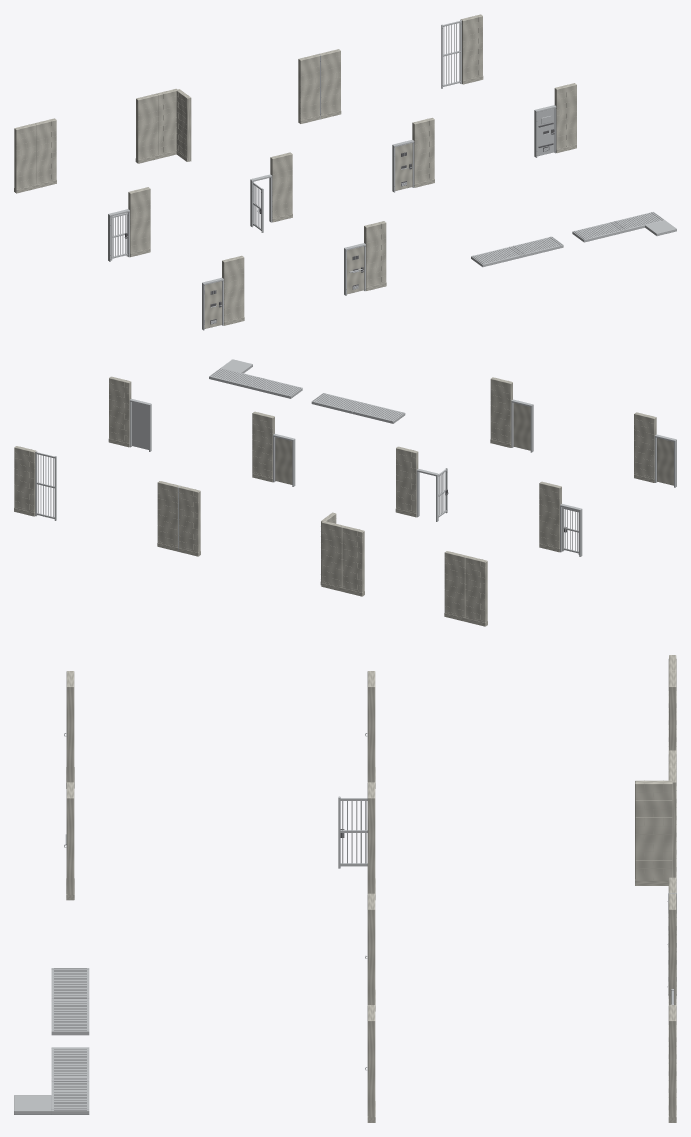
File: prison-complex-builder-prison-connector-cases-1-4a07fe5f__25727.glb
3 renders of one model, top to bottom at view 1: azimuth 30°, elevation 25°; view 2: azimuth 150°, elevation 25°; view 3: azimuth 270°, elevation 25°, orthographic. The views are drawn at different scales.
Visible parts, largest first — view 1: 002-concrete-wall-corner/0, 000-concrete-wall-straight/0, 003-concrete-wall-straight/0, 004-concrete-wall-end/0, 009-concrete-wall-straight/0, 015-concrete-wall-straight/0, 013-concrete-wall-straight/0, 019-concrete-wall-straight/0, 011-concrete-wall-straight/0, 017-concrete-wall-straight/0, 007-concrete-wall-straight/0, 001-concrete-wall-straight/0 (+10 smaller); view 2: 002-concrete-wall-corner/0, 000-concrete-wall-straight/0, 003-concrete-wall-straight/0, 019-concrete-wall-straight/0, 004-concrete-wall-end/0, 007-concrete-wall-straight/0, 001-concrete-wall-straight/0, 011-concrete-wall-straight/0, 015-concrete-wall-straight/0, 013-concrete-wall-straight/0, 017-concrete-wall-straight/0, 009-concrete-wall-straight/0 (+11 smaller); view 3: 002-concrete-wall-corner/0, 022-walkway-corner/0, 021-mezzanine-walkway/0, 023-mezzanine-walkway/0, 020-mezzanine-walkway/0, 019-concrete-wall-straight/0, 009-concrete-wall-straight/0, 017-concrete-wall-straight/0, 015-concrete-wall-straight/0, 011-concrete-wall-straight/0, 013-concrete-wall-straight/0, 007-concrete-wall-straight/0 (+2 smaller).
Boxes of the visible parts, x1,y1,x2,y2 form: 002-concrete-wall-corner/0: [156, 88, 191, 161]; 000-concrete-wall-straight/0: [14, 123, 36, 192]; 003-concrete-wall-straight/0: [136, 93, 158, 162]; 004-concrete-wall-end/0: [298, 54, 319, 123]; 009-concrete-wall-straight/0: [128, 187, 150, 256]; 015-concrete-wall-straight/0: [554, 83, 576, 152]; 013-concrete-wall-straight/0: [412, 117, 434, 186]; 019-concrete-wall-straight/0: [364, 221, 386, 290]; 011-concrete-wall-straight/0: [270, 152, 292, 218]; 017-concrete-wall-straight/0: [222, 255, 244, 321]; 007-concrete-wall-straight/0: [460, 14, 482, 83]; 001-concrete-wall-straight/0: [35, 118, 56, 184]; 002-concrete-wall-corner/0: [321, 512, 343, 587]; 000-concrete-wall-straight/0: [465, 556, 487, 625]; 003-concrete-wall-straight/0: [342, 526, 364, 595]; 019-concrete-wall-straight/0: [490, 377, 512, 447]; 004-concrete-wall-end/0: [179, 486, 200, 555]; 007-concrete-wall-straight/0: [14, 446, 36, 515]; 001-concrete-wall-straight/0: [444, 551, 466, 617]; 011-concrete-wall-straight/0: [396, 446, 418, 516]; 015-concrete-wall-straight/0: [109, 376, 131, 446]; 013-concrete-wall-straight/0: [252, 411, 274, 478]; 017-concrete-wall-straight/0: [634, 412, 656, 479]; 009-concrete-wall-straight/0: [539, 481, 561, 548]; 002-concrete-wall-corner/0: [635, 766, 676, 879]; 022-walkway-corner/0: [14, 1079, 89, 1114]; 021-mezzanine-walkway/0: [51, 999, 89, 1035]; 023-mezzanine-walkway/0: [51, 1047, 89, 1079]; 020-mezzanine-walkway/0: [51, 968, 89, 999]; 019-concrete-wall-straight/0: [66, 782, 74, 894]; 009-concrete-wall-straight/0: [367, 671, 375, 782]; 017-concrete-wall-straight/0: [66, 671, 74, 782]; 015-concrete-wall-straight/0: [367, 1005, 375, 1116]; 011-concrete-wall-straight/0: [367, 782, 375, 893]; 013-concrete-wall-straight/0: [367, 893, 375, 1004]; 007-concrete-wall-straight/0: [669, 1005, 676, 1116].
Bounding box in the file's own units: 23 × 3 × 17.61.
Materials: 4 (1 with a texture image).
